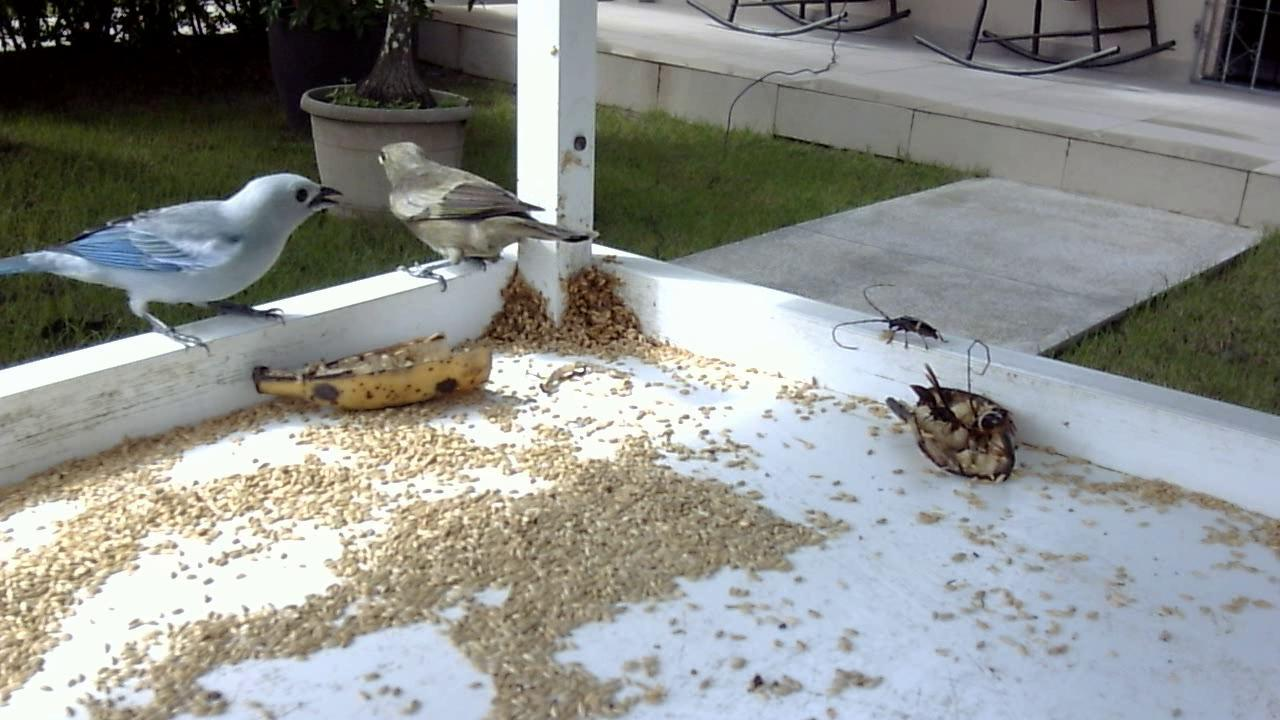sanhaco_da_amazonia: (9, 162, 346, 360)
sanhaco_do_coqueiro: (368, 130, 597, 297)
